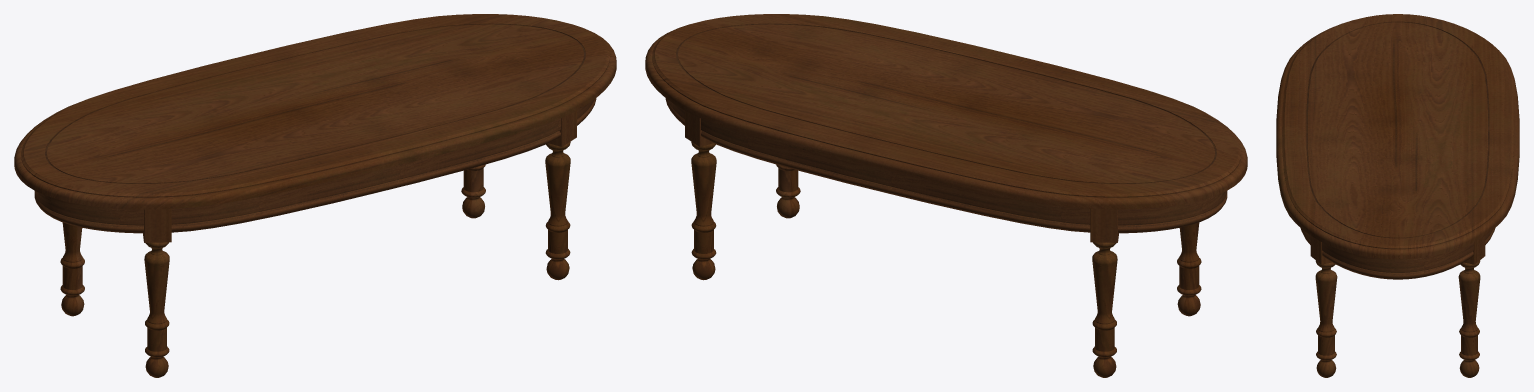
The model's file is coffee_table.glb.
The picture shows the model from 3 angles, left to right: view 1: azimuth 30°, elevation 25°; view 2: azimuth 150°, elevation 25°; view 3: azimuth 270°, elevation 25°; orthographic projection. The views are drawn at different scales.
Parts seen in each view (by area): view 1: Table; view 2: Table; view 3: Table.
Boxes of the visible parts, x1,y1,x2,y2 form: Table: [14, 14, 616, 377]; Table: [645, 14, 1247, 377]; Table: [1276, 14, 1519, 377].
Bounding box in the file's own units: 136 × 43.48 × 58.51.
1 material, 1 textured.
